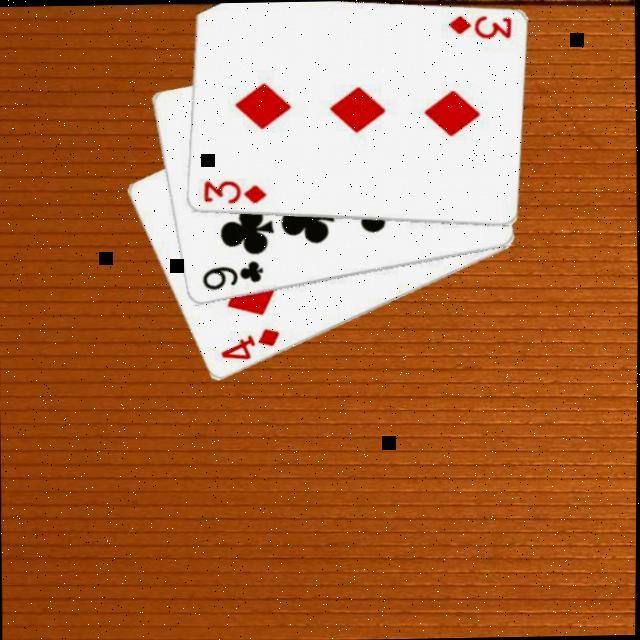3D: (200, 177, 271, 208), (444, 12, 515, 43)
4D: (217, 326, 283, 365)
9C: (198, 258, 267, 295)
